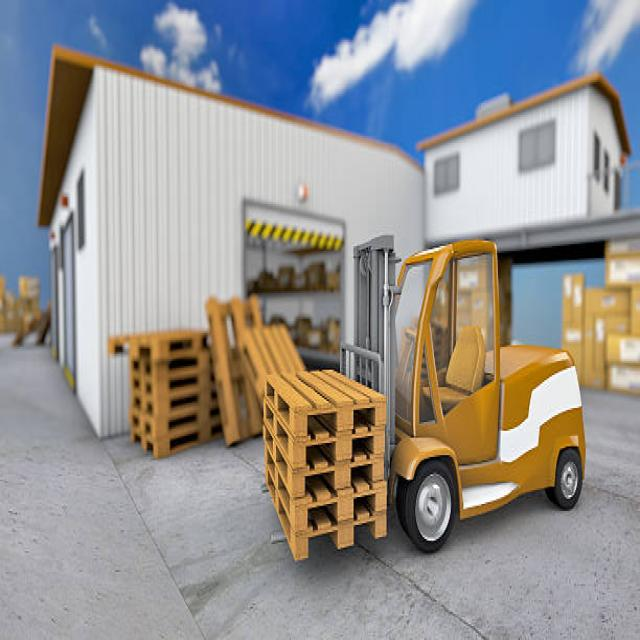Wooden-Pallets: (253, 466, 390, 573), (244, 440, 390, 539), (254, 423, 387, 507), (260, 353, 390, 436), (254, 398, 388, 472), (103, 320, 214, 372)
